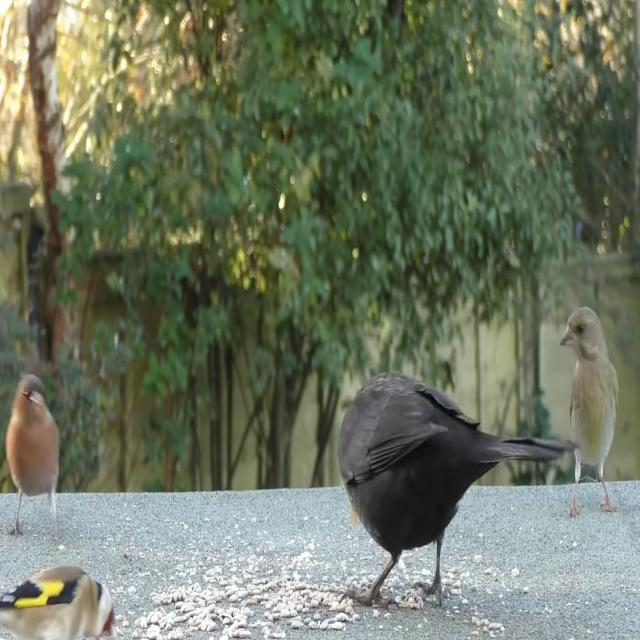beak: (558, 325, 576, 352), (27, 387, 45, 407)
bird: (335, 373, 577, 618), (555, 297, 619, 528), (4, 374, 66, 540), (0, 559, 119, 639)
